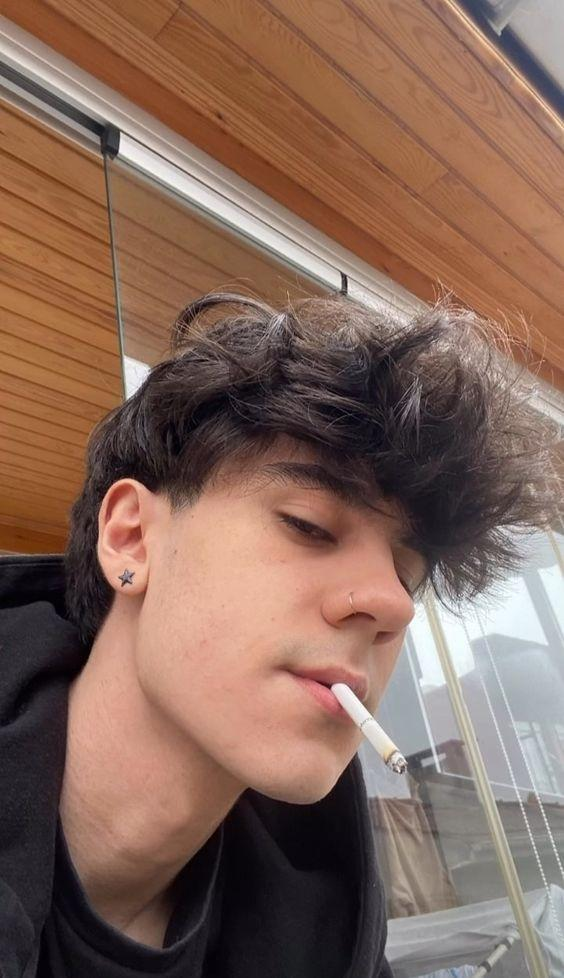cigarette: (330, 683, 408, 776)
